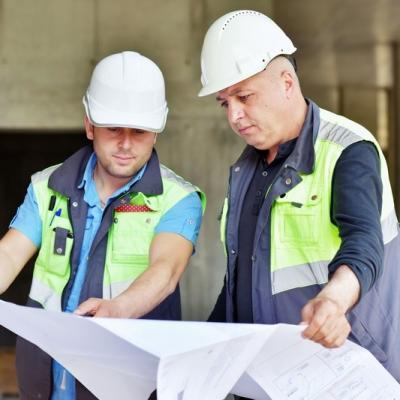helmet: (200, 10, 299, 102), (84, 51, 169, 133)
